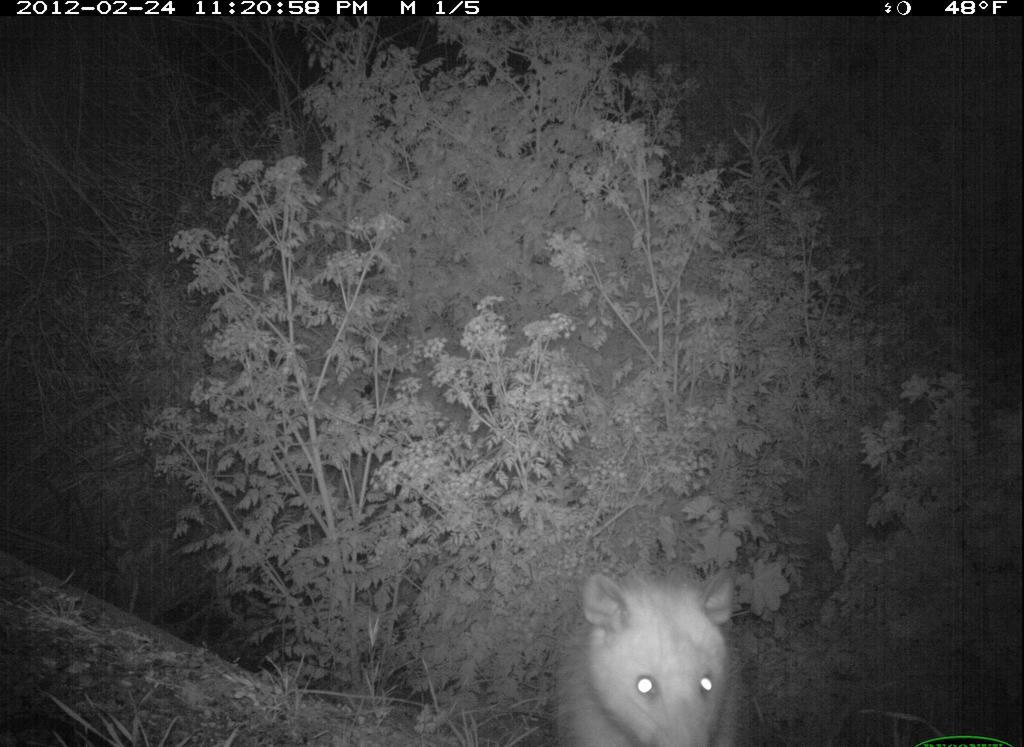opossum: (552, 559, 748, 747)
